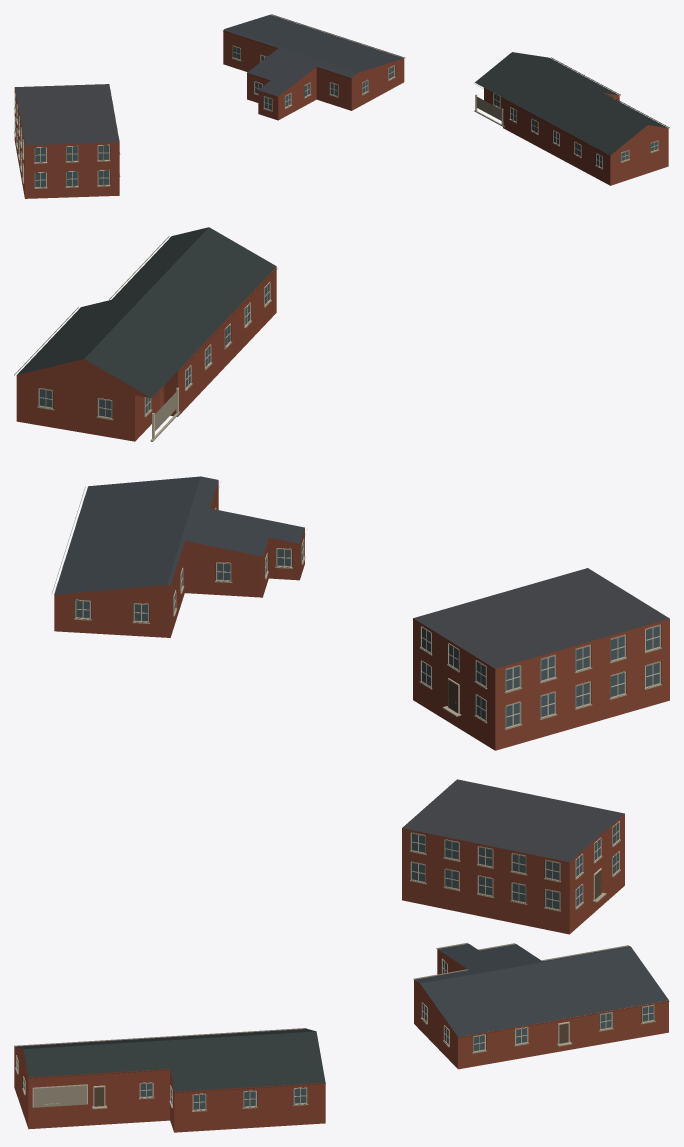
The picture shows the model from 3 angles, top to bottom: view 1: azimuth 30°, elevation 25°; view 2: azimuth 150°, elevation 25°; view 3: azimuth 270°, elevation 25°; orthographic projection. The views are drawn at different scales.
Visible parts, largest first — view 1: -5_-2_623906093_4; view 2: -5_-2_623906093_4; view 3: -5_-2_623906093_4.
Boxes of the visible parts, box(x1,y1,x2,y2) form: -5_-2_623906093_4: box(14, 14, 669, 198); -5_-2_623906093_4: box(14, 227, 669, 750); -5_-2_623906093_4: box(14, 779, 669, 1132).
Bounding box in the file's own units: 78.36 × 12.02 × 67.21.
